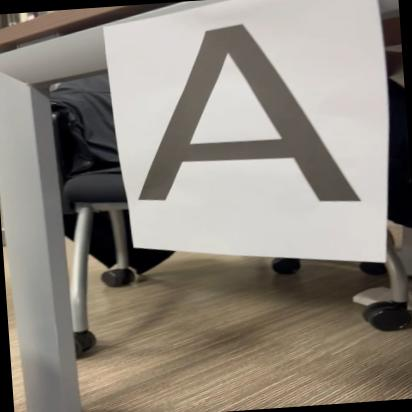seat: (131, 9, 364, 224)
